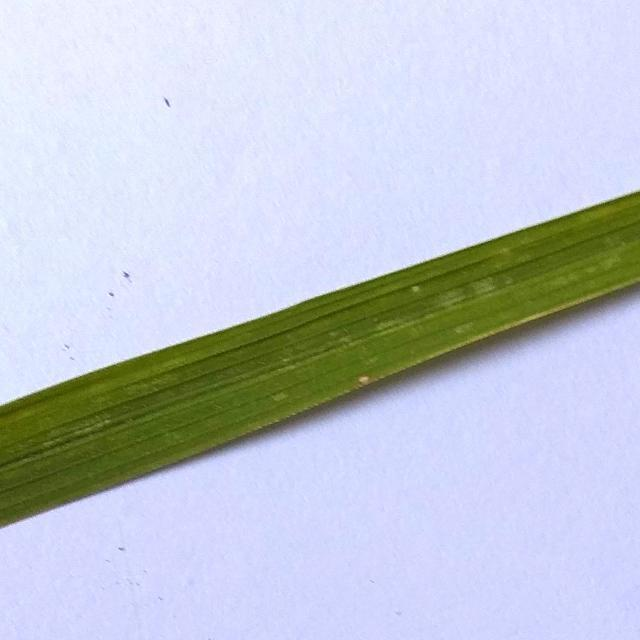Blast: (350, 368, 372, 385)
